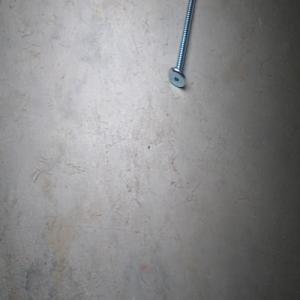Bolt: (167, 0, 196, 88)
